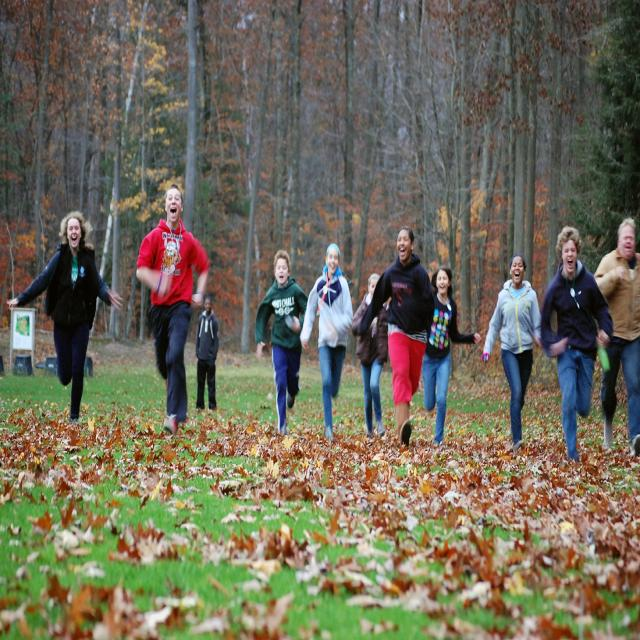body: (5, 208, 124, 425), (135, 181, 211, 437), (352, 224, 436, 447), (540, 224, 614, 461), (480, 250, 545, 455), (592, 215, 640, 458), (420, 266, 482, 448), (253, 247, 311, 437), (301, 243, 354, 441), (351, 272, 388, 439), (194, 292, 222, 414)
